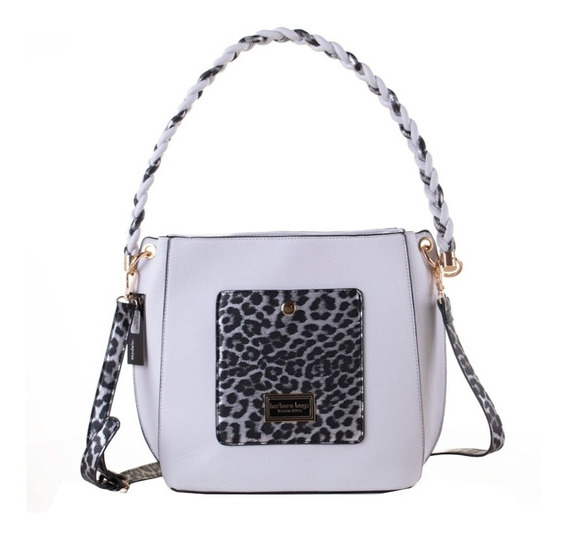cartera: (81, 27, 508, 497)
